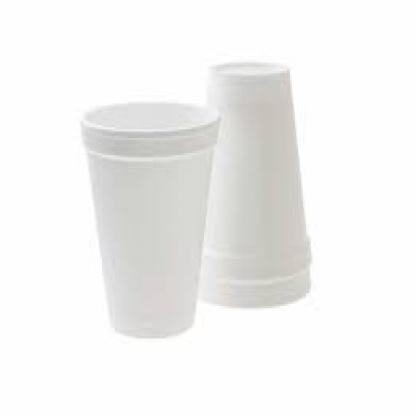paper: (80, 101, 218, 332), (194, 60, 311, 306)
